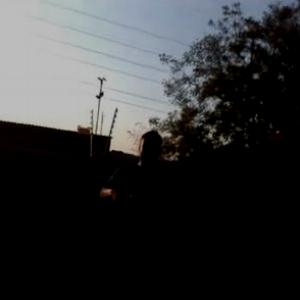follow: (89, 121, 173, 299)
